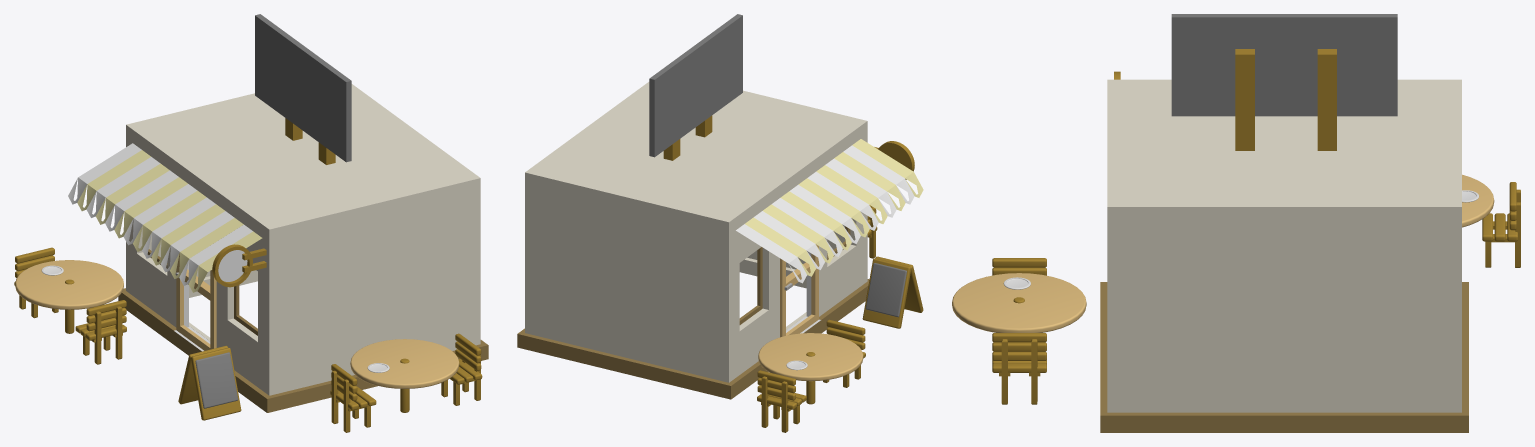
File: cafe.gltf
3 views of the same model, side by side, from view 1: azimuth 30°, elevation 25°; view 2: azimuth 150°, elevation 25°; view 3: azimuth 270°, elevation 25° (orthographic). The views are drawn at different scales.
Visible parts, largest first — view 1: Cube, Billboard_1, Cylinder.2, Cylinder, Cube.5, Cube.1, Cube.8, Cylinder.1, Cube.2, Extrude.7, Extrude.4, Extrude.11 (+12 smaller); view 2: Cube, Billboard_1, Cube.5, Cylinder.2, Cube.4, Cube.8, Cube.6 (×2), Cube.3, Extrude, Extrude.11, Extrude.1, Extrude.4 (+12 smaller); view 3: Cube, Billboard_1, Cube.5, Cylinder, Cube.3, Cube.4, Cylinder.2, Cube.2.
Part boxes in pixels (x1,y1,x2,y2): Cube: (126,84,480,395); Billboard_1: (255,14,351,162); Cylinder.2: (15,260,123,309); Cylinder: (350,339,459,388); Cube.5: (118,288,488,412); Cube.1: (195,352,238,408); Cube.8: (176,253,216,350); Cylinder.1: (212,244,252,287); Cube.2: (191,347,241,420); Extrude.7: (142,197,215,258); Extrude.4: (170,218,243,278); Extrude.11: (68,143,141,204); Cube: (525,82,867,382); Billboard_1: (649,14,742,157); Cube.5: (517,279,869,399); Cylinder.2: (758,333,863,381); Cube.4: (865,263,906,317); Cube.8: (780,244,818,337); Cube.6 (×2): (739,247,768,330); Cube.3: (862,258,911,328); Extrude: (798,178,869,237); Extrude.11: (736,224,806,283); Extrude.1: (789,184,860,243); Extrude.4: (834,152,905,210); Cube: (1107,79,1461,412); Billboard_1: (1171,14,1397,116); Cube.5: (1100,282,1468,432); Cylinder: (952,273,1086,332); Cube.3: (1235,49,1254,150); Cube.4: (1317,49,1336,150); Cylinder.2: (1462,174,1494,227); Cube.2: (992,258,1046,267).
Size of the model in its own units: 10.18 by 8.28 by 12.15.
